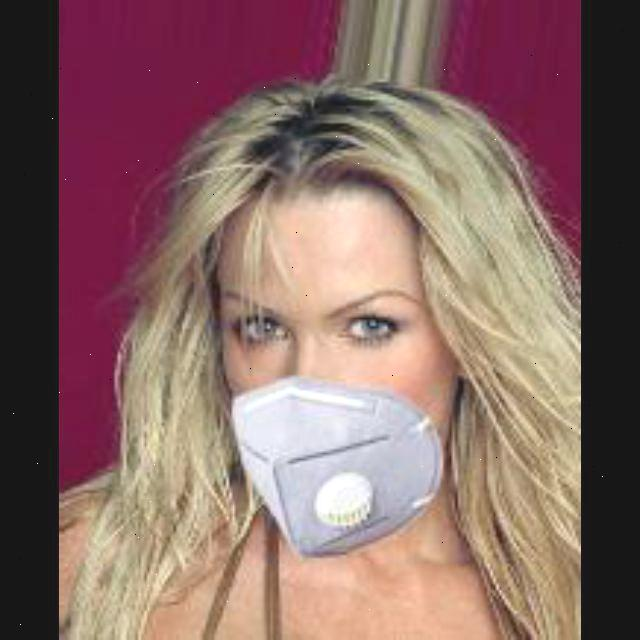suspicion: (192, 108, 460, 548)
